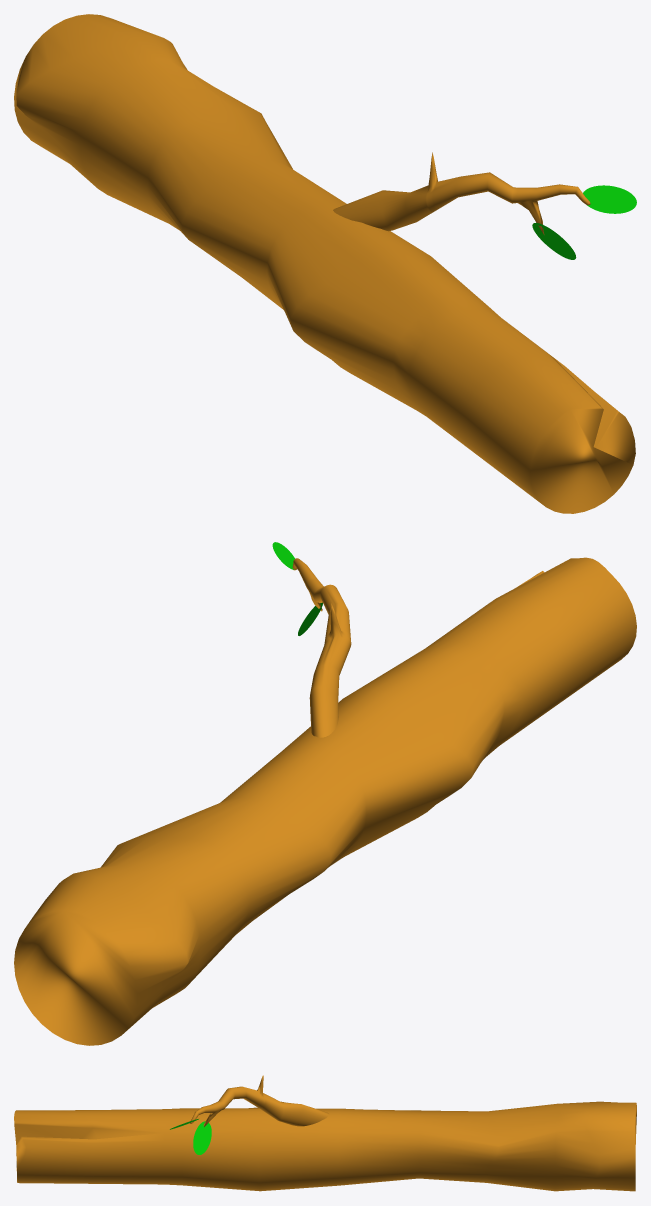
File: log3.fbx
The picture shows the model from 3 angles, top to bottom: view 1: azimuth 30°, elevation 25°; view 2: azimuth 150°, elevation 25°; view 3: azimuth 270°, elevation 25°; orthographic projection. The views are drawn at different scales.
Parts seen in each view (by area): view 1: Cylinder.003, Cylinder.002, Circle.003, Circle.004; view 2: Cylinder.003, Cylinder.002; view 3: Cylinder.003, Cylinder.002, Circle.004.
Boxes of the visible parts, x1,y1,x2,y2 form: Cylinder.003: [14, 14, 635, 513]; Cylinder.002: [333, 152, 590, 234]; Circle.003: [583, 185, 636, 213]; Circle.004: [532, 222, 576, 259]; Cylinder.003: [14, 557, 636, 1045]; Cylinder.002: [292, 558, 351, 737]; Cylinder.003: [14, 1101, 636, 1191]; Cylinder.002: [190, 1075, 329, 1126]; Circle.004: [193, 1121, 211, 1154].
Bounding box in the file's own units: 310 × 228 × 1012.
